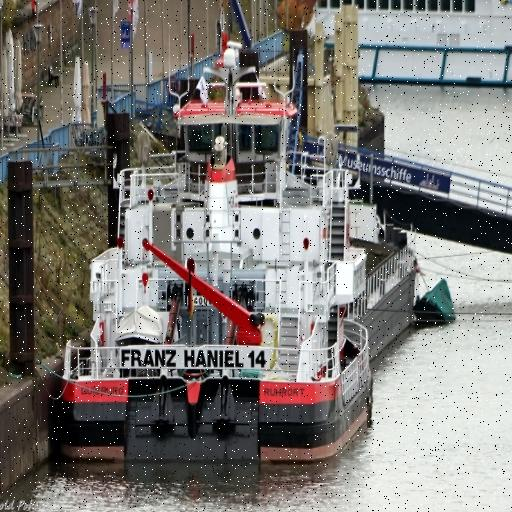tugboat: (57, 38, 380, 496)
